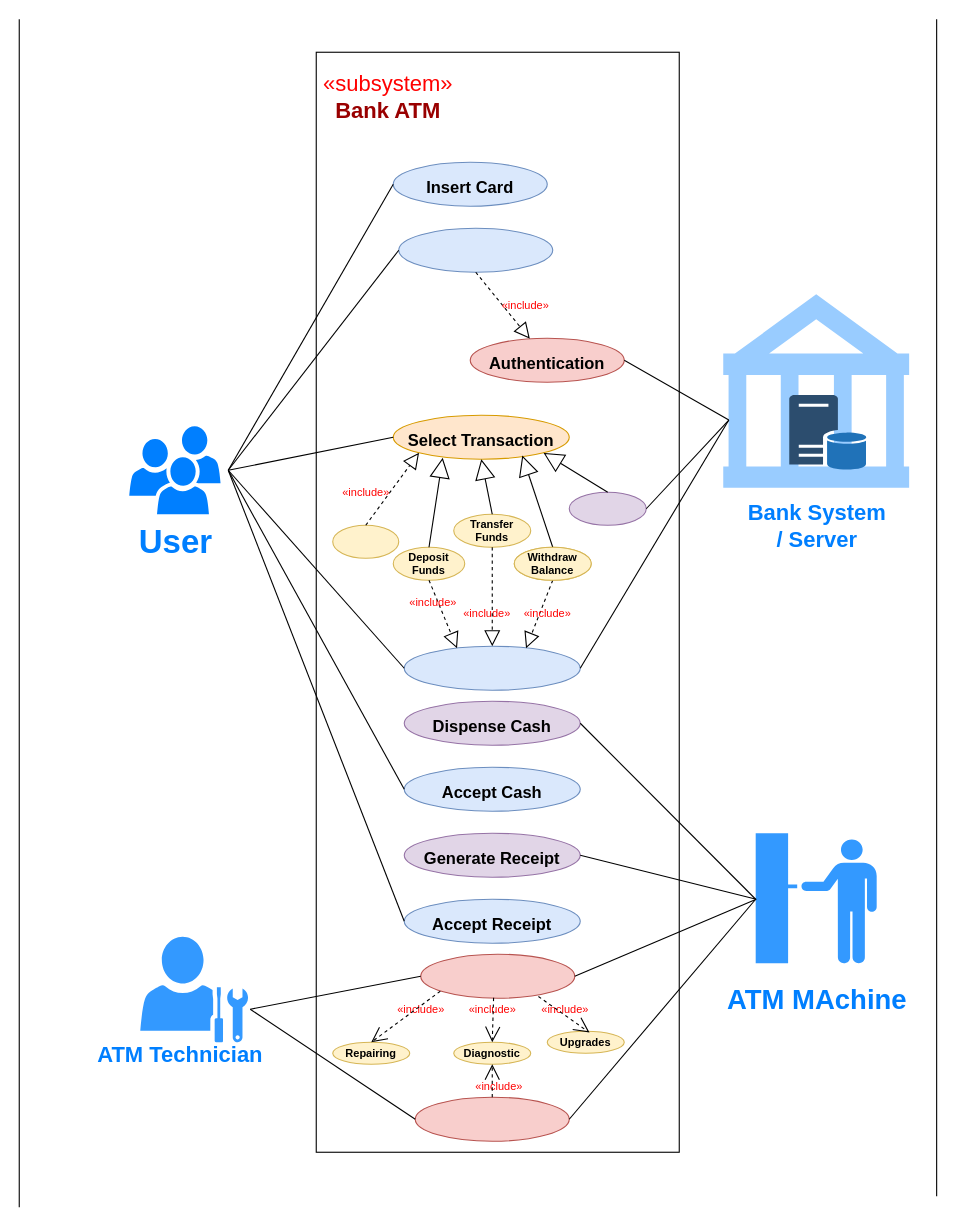
This 957x1228 diagram has some shape labels left out. Here are the shapes that lost their labels. From the top down, the centre of each, then its label:
the point at 475,249: login
the point at 607,508: Change Pin
the point at 365,541: Check Balance
the point at 491,667: Enter Amount
the point at 497,975: Maintinance
the point at 491,1118: Repair
